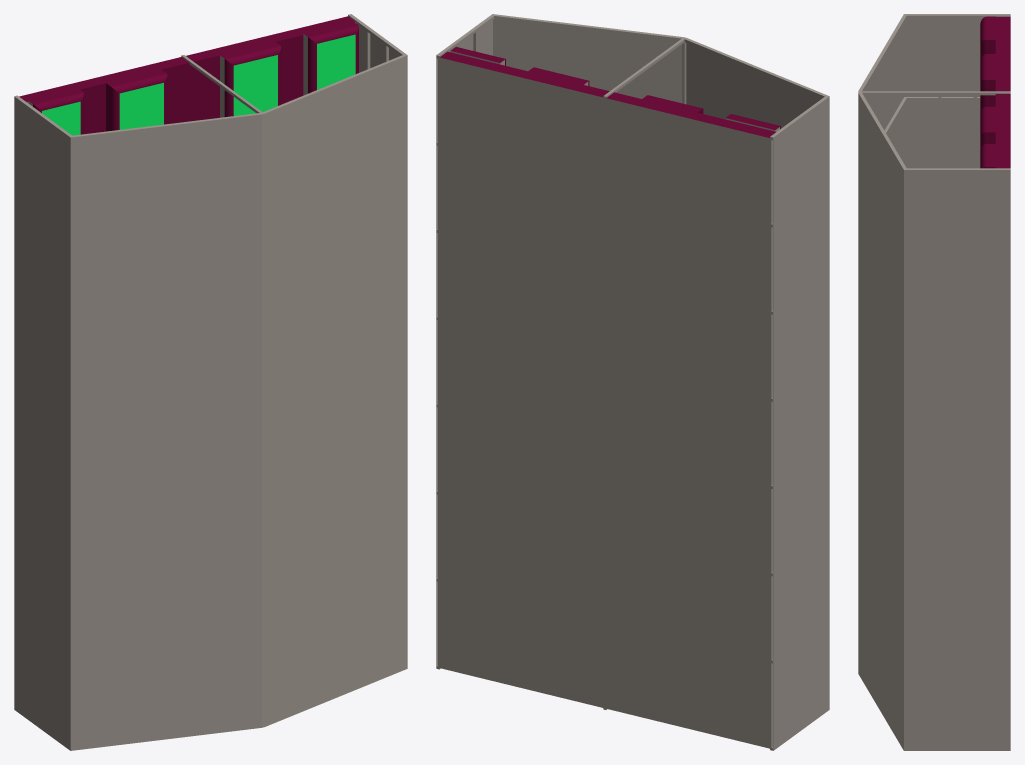
File: dapeng.gltf
3 renders of one model, left to right at view 1: azimuth 30°, elevation 25°; view 2: azimuth 150°, elevation 25°; view 3: azimuth 270°, elevation 25°, orthographic. The views are drawn at different scales.
Size of the model in its own units: 69.04 by 120 by 28.55.
